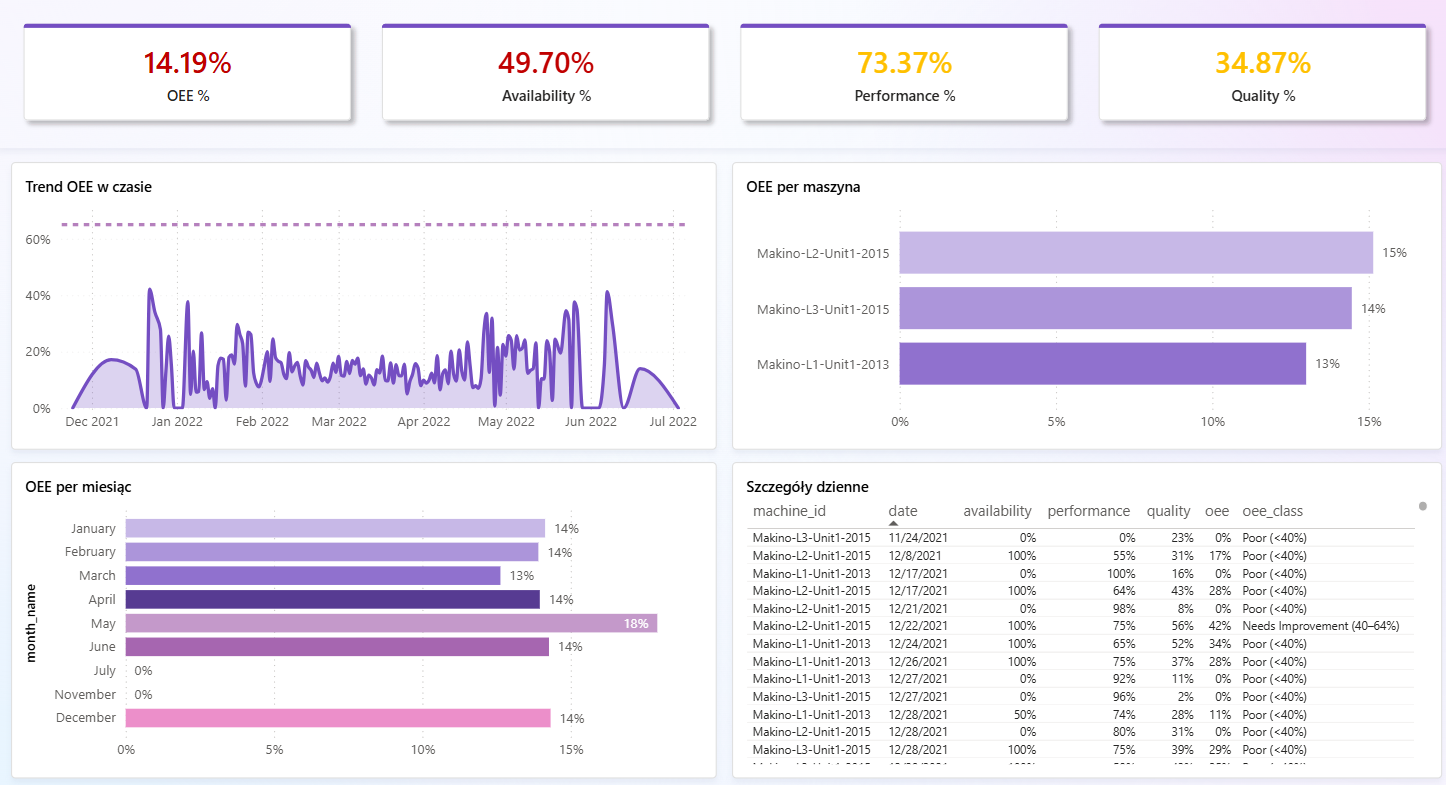

This screenshot's page, from the dashboard's own definition file:
{"tool":"powerbi","page":{"name":"Przegląd OEE","canvas":[1320,720],"ordinal":0},"visuals":[{"type":"cardVisual","fields":{"Data":["Miary.OEE %","Miary.Availability %","Miary.Performance %","Miary.Quality %"]},"box":[0,0,1320.3,136.9],"z":0},{"type":"lineChart","title":"Trend OEE w czasie","fields":{"Category":["oee_cleaned.date"],"Y":["Miary.OEE %"]},"box":[12.7,149.6,640.2,261.2],"z":1000},{"type":"clusteredBarChart","title":"OEE per maszyna","fields":{"Category":["oee_cleaned.machine_id"],"Y":["Miary.OEE %"]},"box":[666.5,149.6,643.8,261.2],"z":2000},{"type":"clusteredBarChart","title":"OEE per miesiąc","fields":{"Category":["oee_cleaned.month_name"],"Y":["Miary.OEE %"]},"box":[12.7,421.7,640.2,286.5],"z":3000},{"type":"tableEx","title":"Szczegóły dzienne","fields":{"Values":["oee_cleaned.machine_id","oee_cleaned.date","oee_cleaned.availability","oee_cleaned.performance","oee_cleaned.quality","oee_cleaned.oee","oee_cleaned.oee_class"]},"box":[666.5,421.7,643.8,286.5],"z":4000}]}

Visuals, with their boxes in screenshot pixels (x1, y1, x2, y2), scaled from the page's 1320x720 canvas onto the 1446x785 screenshot:
cardVisual - Miary.OEE % x Miary.Availability %: bbox=[0, 0, 1445, 149]
"Trend OEE w czasie" lineChart: bbox=[14, 163, 715, 448]
"OEE per maszyna" clusteredBarChart: bbox=[730, 163, 1435, 448]
"OEE per miesiąc" clusteredBarChart: bbox=[14, 460, 715, 772]
"Szczegóły dzienne" tableEx: bbox=[730, 460, 1435, 772]
